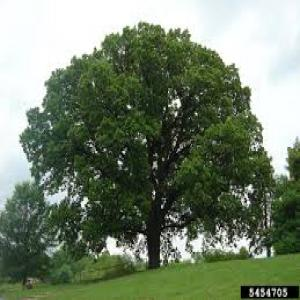Tree: (17, 17, 276, 266)
